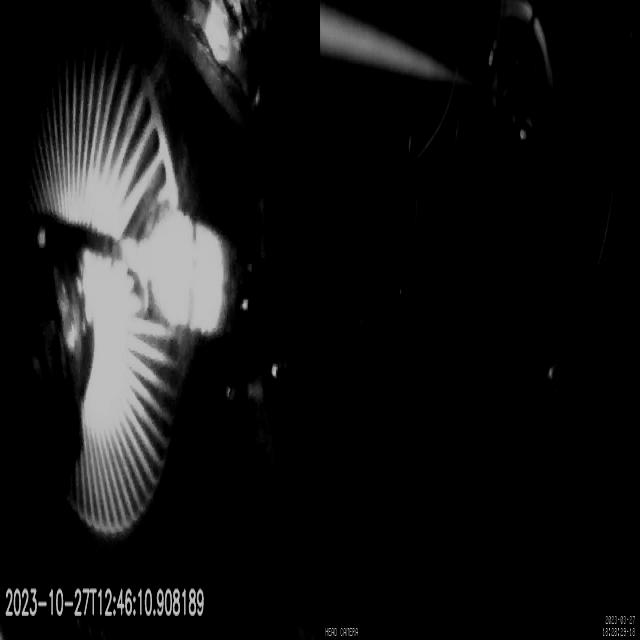head: (148, 211, 240, 338)
